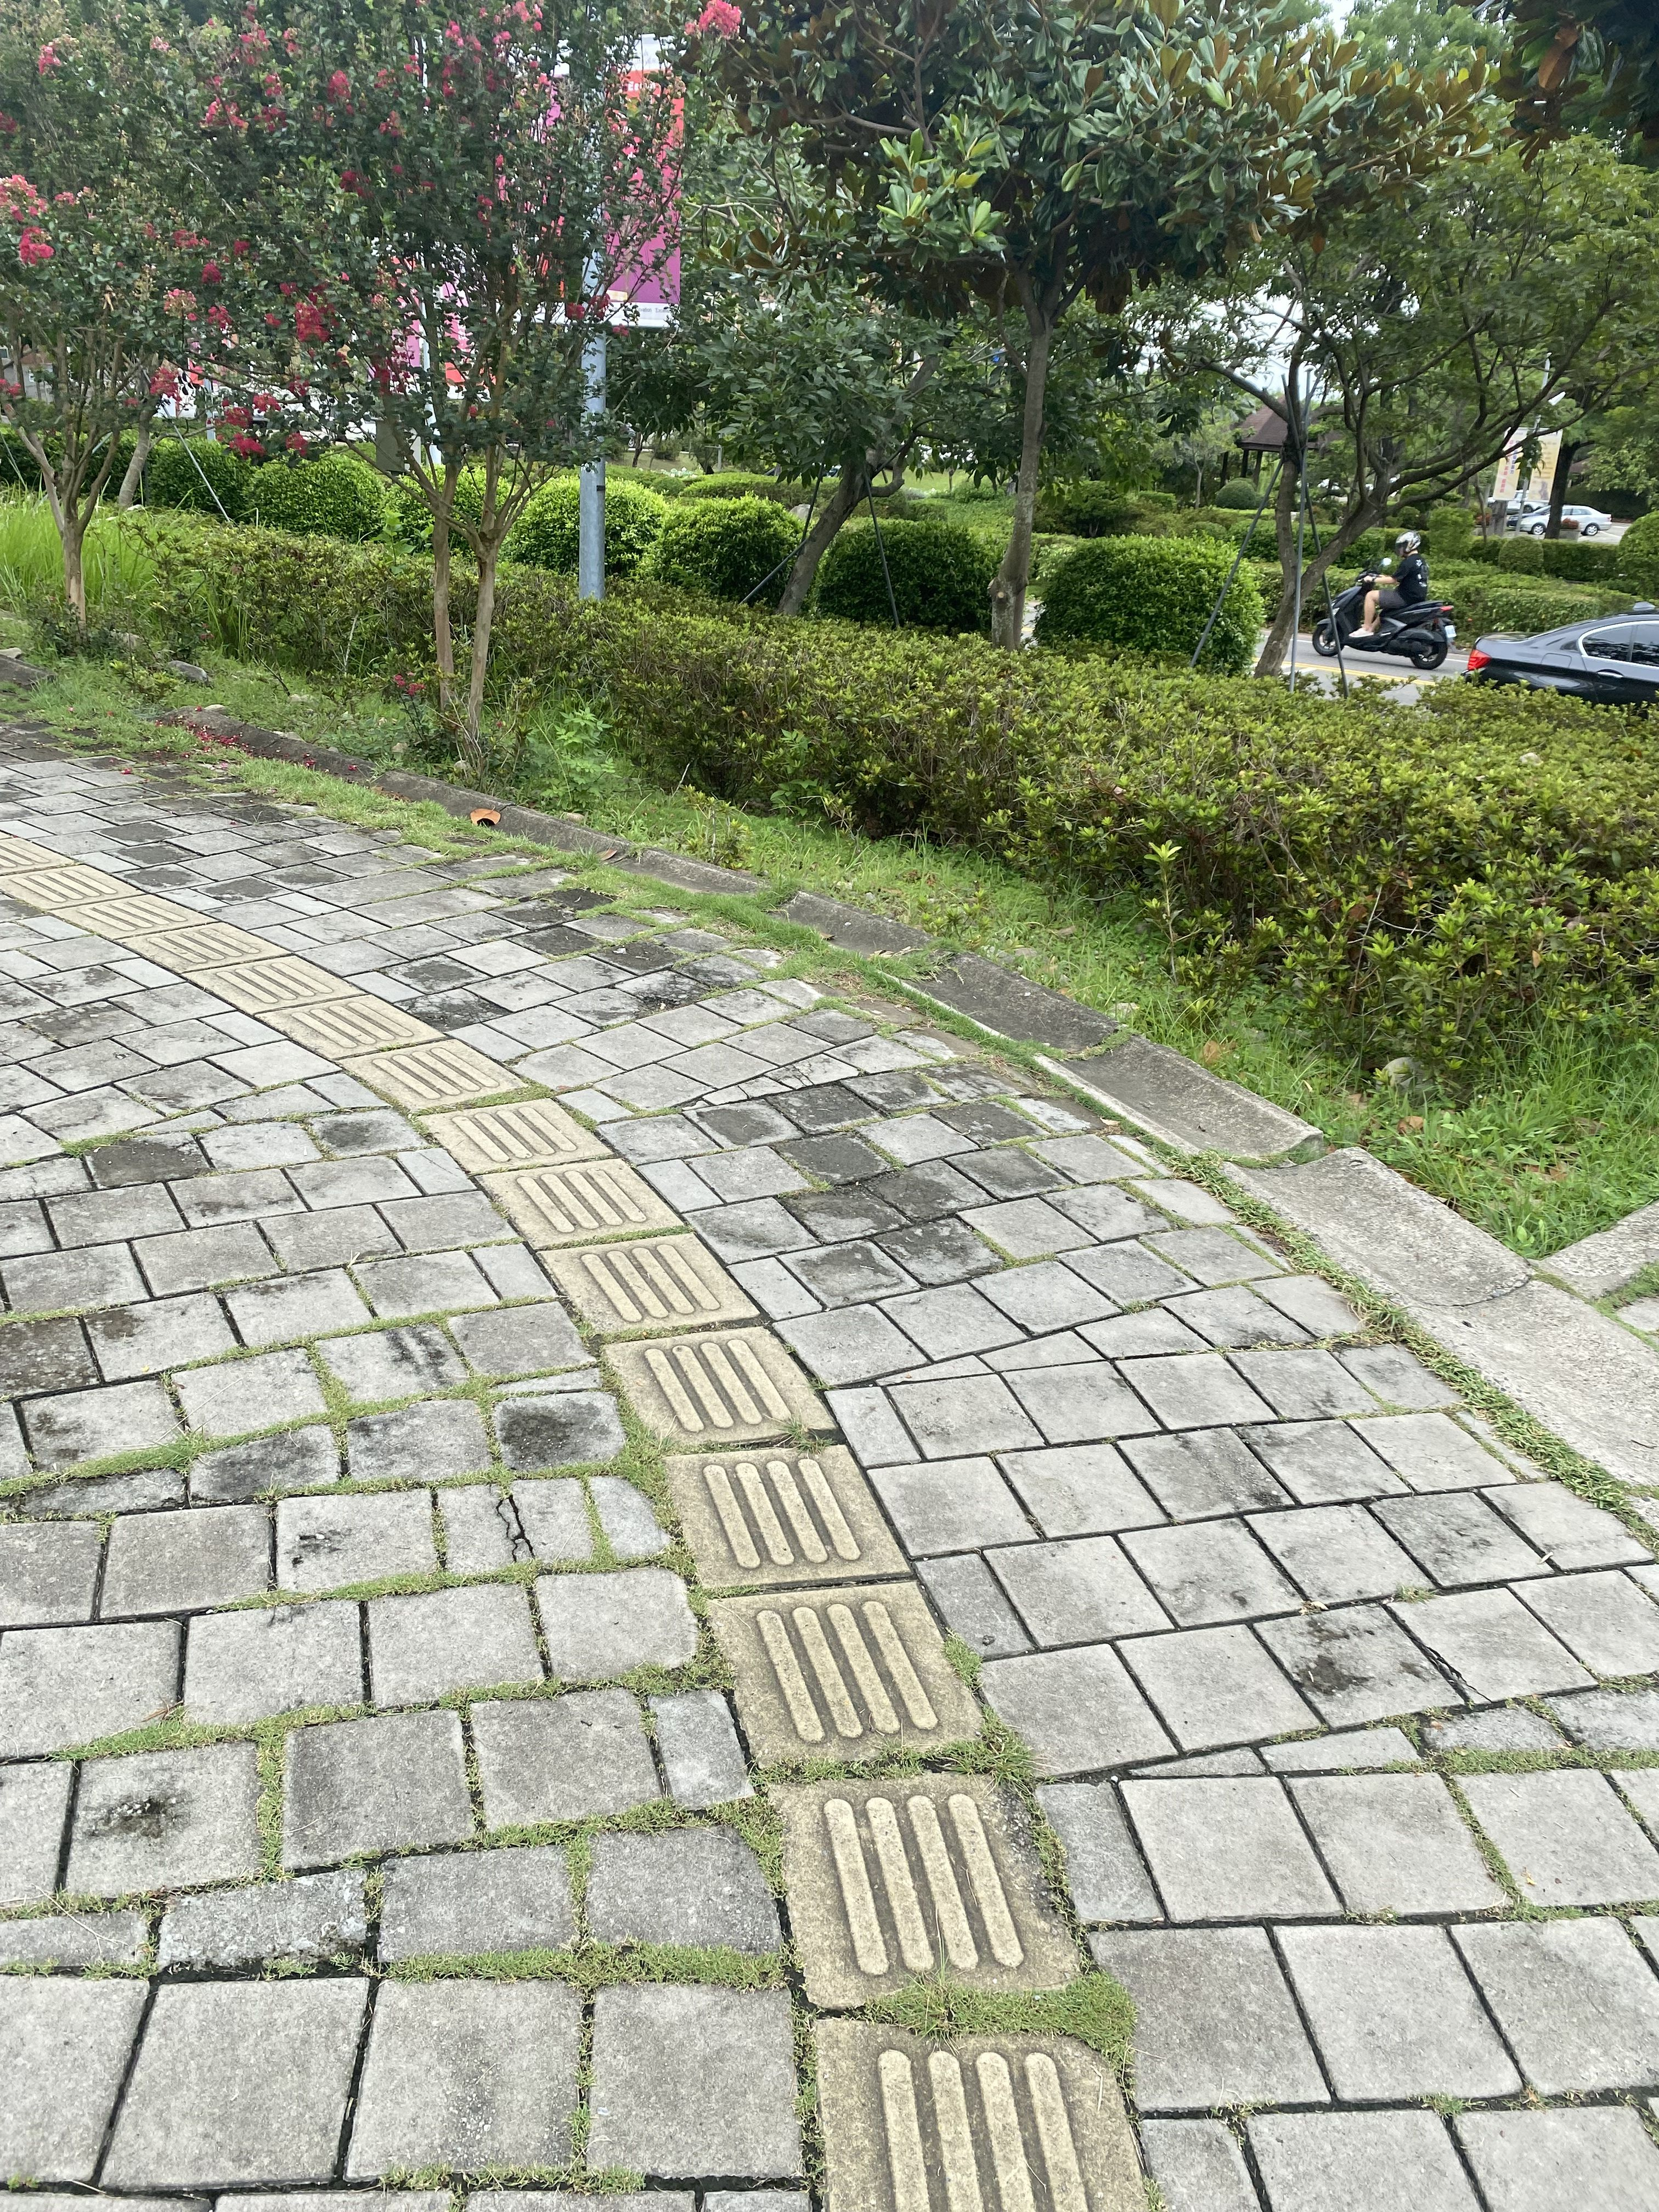sidewalk: (3, 629, 1659, 2212)
